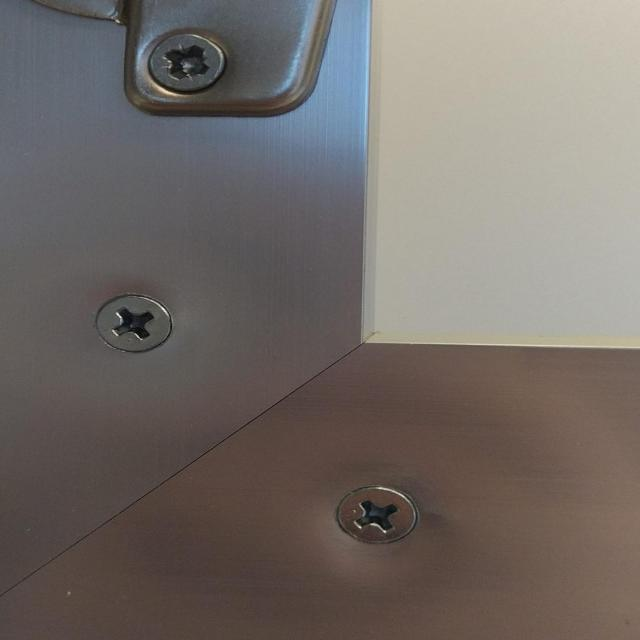Phillips: (330, 486, 425, 546), (97, 295, 180, 352)
Pozidriv: (151, 32, 229, 96)
